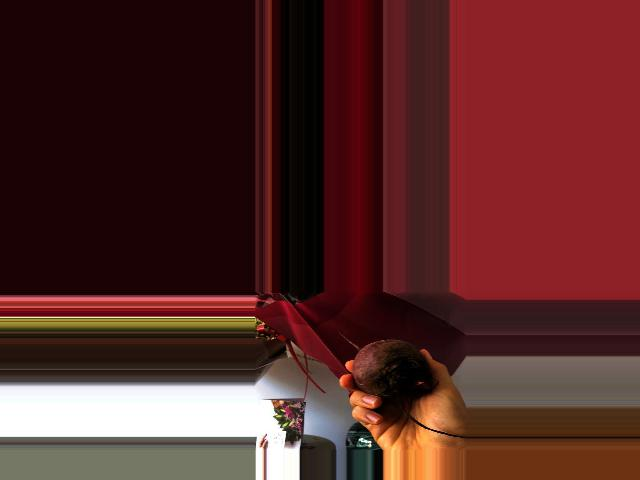beet: (336, 328, 465, 438)
